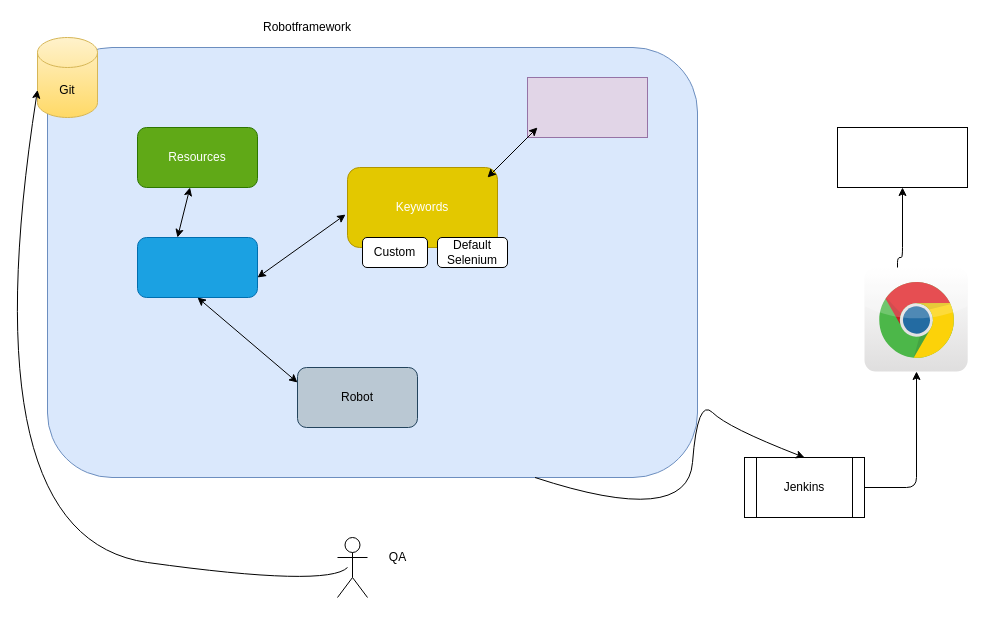
The diagram is 986 pixels wide and 635 high, and some of its shapes have lost their labels. Here are the shapes that lost their labels. From the top down, the centre of each, then its label:
[587,107]: Data
[902,157]: Applciation
[197,267]: TestScripts
[352,567]: Actor
